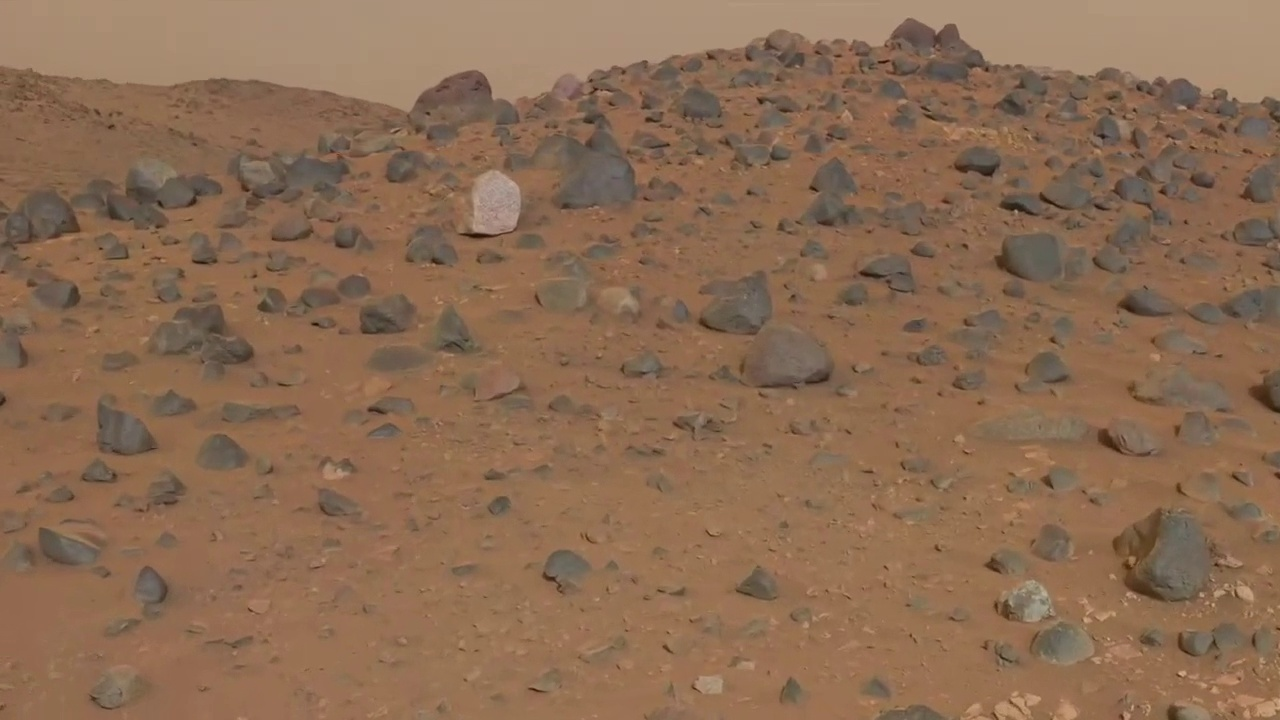rock: (1112, 508, 1208, 603), (853, 258, 917, 302), (359, 295, 415, 335), (994, 584, 1050, 621), (1177, 627, 1237, 657), (1116, 288, 1173, 317), (1097, 428, 1152, 457), (542, 551, 586, 582), (736, 570, 770, 600), (620, 358, 666, 378), (80, 461, 118, 483), (257, 288, 286, 314)
